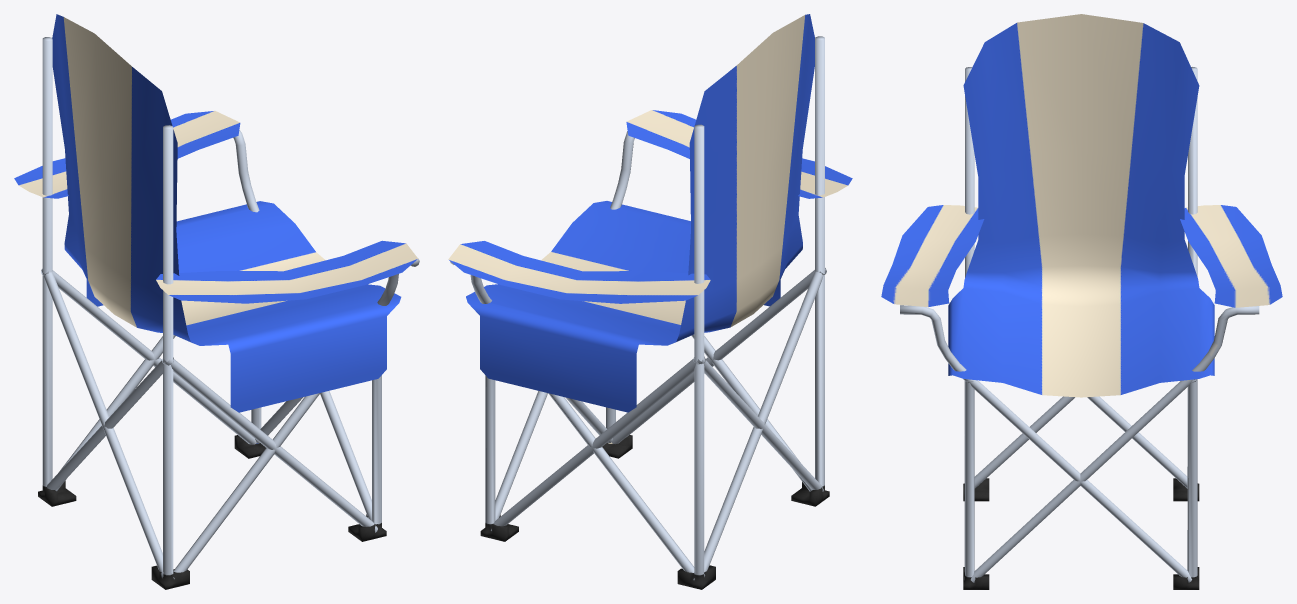
File: obj_camping_chair_4a673a.glb
The picture shows the model from 3 angles, left to right: view 1: azimuth 30°, elevation 25°; view 2: azimuth 150°, elevation 25°; view 3: azimuth 270°, elevation 25°; orthographic projection. The views are drawn at different scales.
Parts seen in each view (by area): view 1: obj_camping_chair_4a673a; view 2: obj_camping_chair_4a673a; view 3: obj_camping_chair_4a673a.
Boxes of the visible parts, x1,y1,x2,y2 form: obj_camping_chair_4a673a: (14, 14, 419, 589); obj_camping_chair_4a673a: (448, 14, 852, 589); obj_camping_chair_4a673a: (881, 14, 1282, 589).
Size of the model in its own units: 0.4091 by 0.82 by 0.6306.
Materials: 1 (1 with a texture image).
